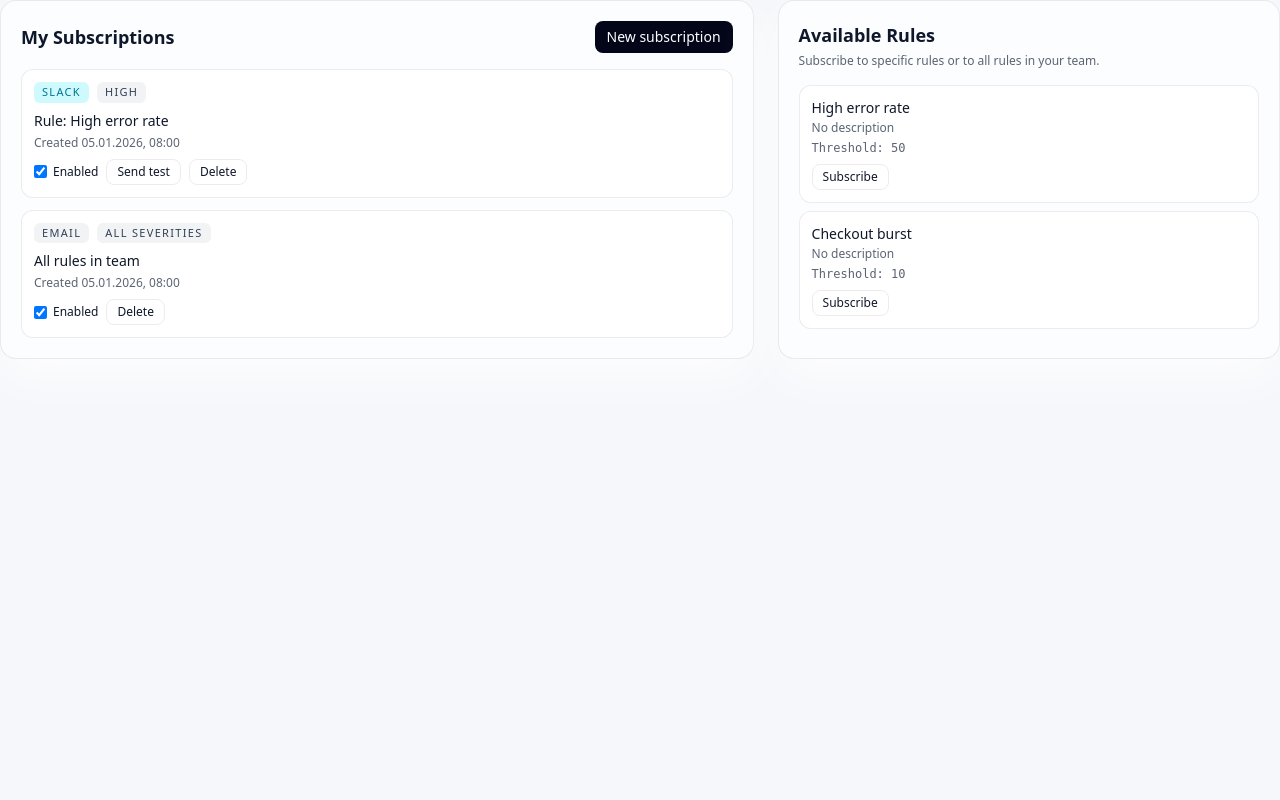
delete › deletes once after confirming and removes the row
Click the button with aria-label "Delete SLACK subscription" at (218, 172), box [189,158,247,184]
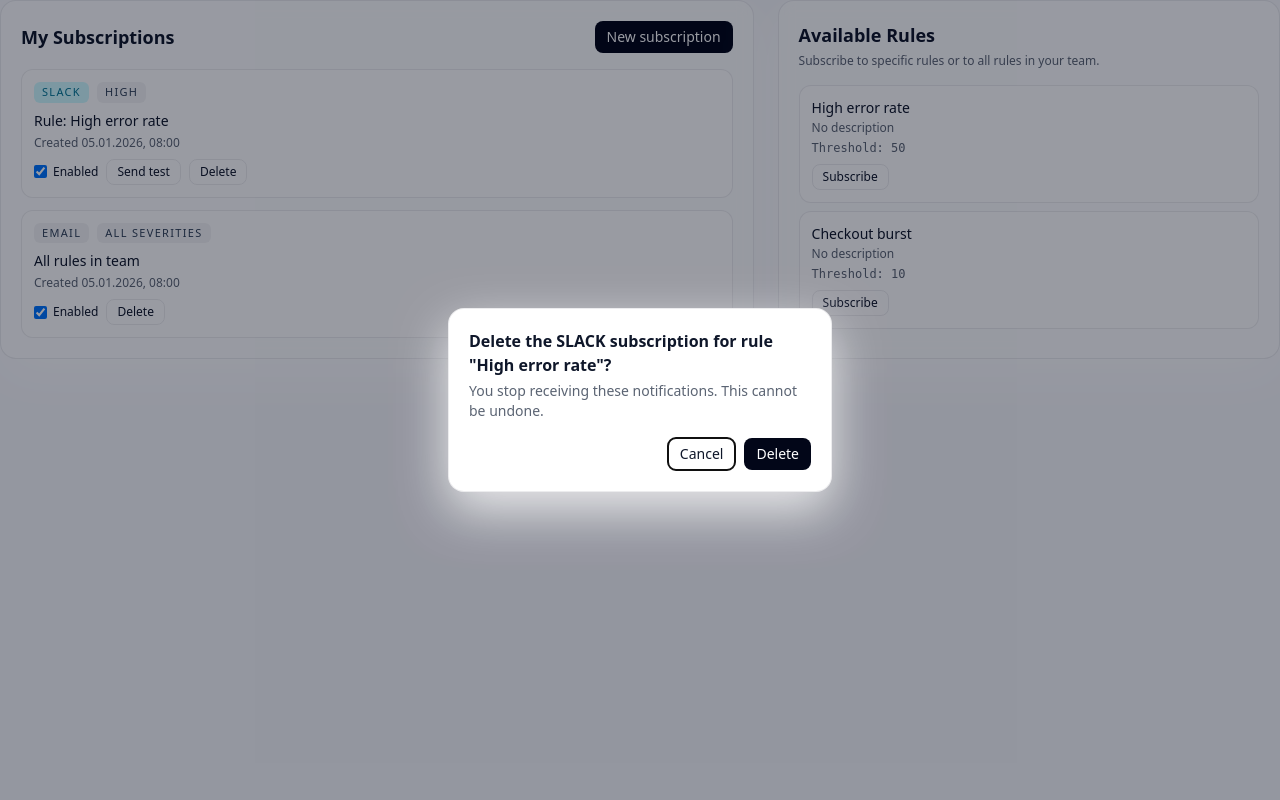
Click the button "Delete" at (778, 454), box [744,438,811,470]
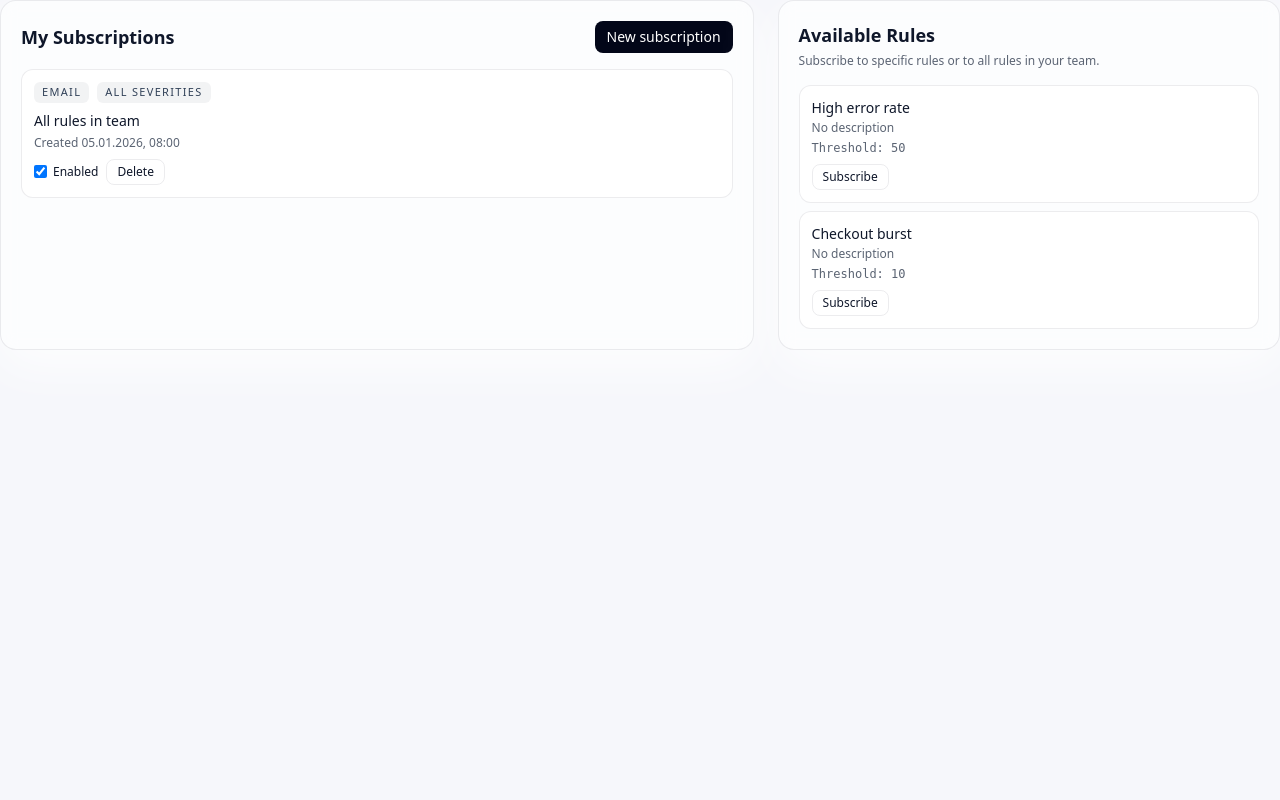
Expected: the text "All rules in team" is shown, [34,110,140,130]
Now the text "Rule: High error rate" is gone
